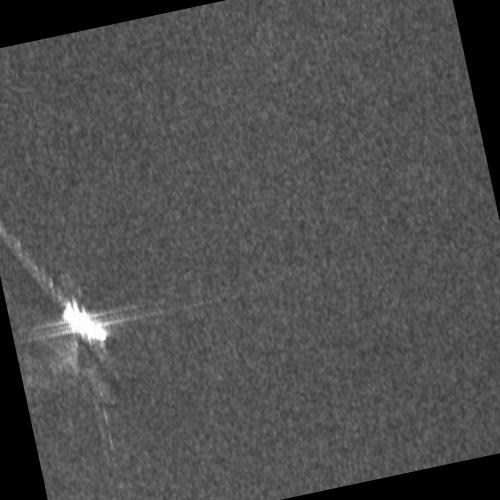ship: (62, 301, 108, 341)
